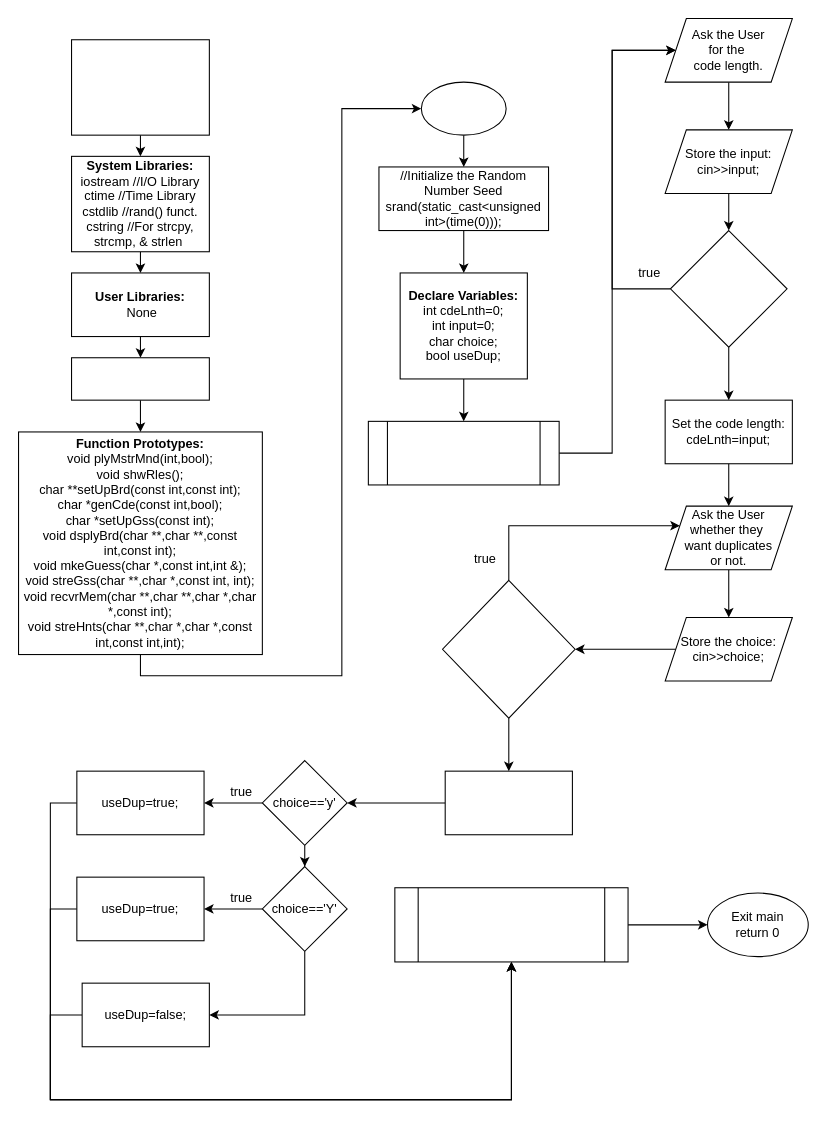
This 827x1127 diagram has some shape labels left out. The shapes that lost their labels are listed below. From the top down, each one's centre as x and y in pixels, then its label:
pixel 139 87: Author: Aamir Khan Created on March 23, 2022, 10:00 PM Purpose: Mastermind V.10
pixel 463 108: main
pixel 728 288: input!=4&& input!=6&& input!=8
pixel 139 378: Global Constants: None
pixel 463 452: //Give an explanation of Mastermind and it's rules: shwRles();
pixel 508 648: choice!='y'&& choice!='n'&& choice!='Y'&& choice!='N'
pixel 508 802: Set the bool useDup given our choice.
pixel 511 924: plyMstrMnd(cdeLnth,useDup);
